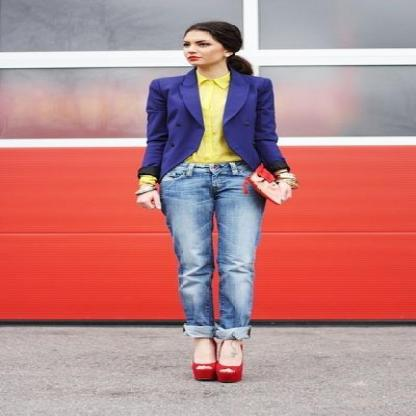bag: (244, 164, 296, 191)
jacket: (141, 66, 286, 177)
pants: (146, 162, 270, 345)
shirt: (185, 77, 240, 165)
shoe: (192, 360, 242, 382)
